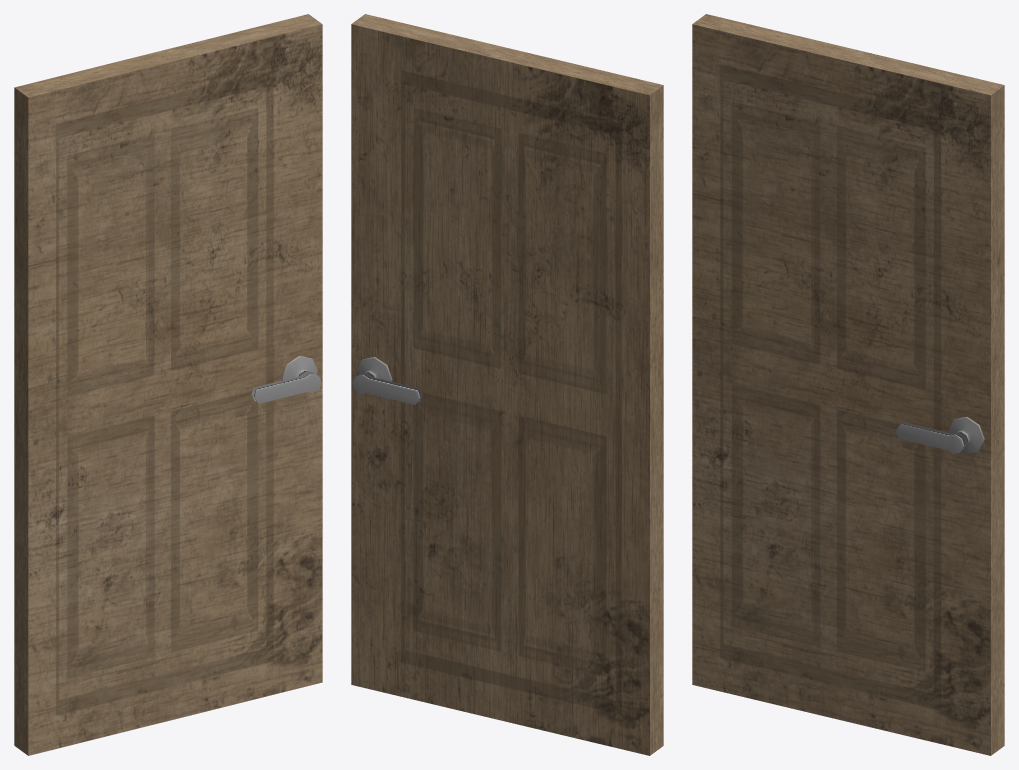
The model's file is ArcRoomDoor2.fbx.
The picture shows the model from 3 angles, left to right: view 1: azimuth 30°, elevation 25°; view 2: azimuth 150°, elevation 25°; view 3: azimuth 330°, elevation 25°; orthographic projection.
Visible parts, largest first — view 1: ArcRoomDoor2_low; view 2: ArcRoomDoor2_low; view 3: ArcRoomDoor2_low.
Part boxes in pixels (x1,y1,x2,y2): ArcRoomDoor2_low: (14, 14, 322, 755); ArcRoomDoor2_low: (351, 14, 663, 755); ArcRoomDoor2_low: (692, 14, 1004, 755).
Bounding box in the file's own units: 154 × 327 × 37.97.
2 materials, 2 textured.
